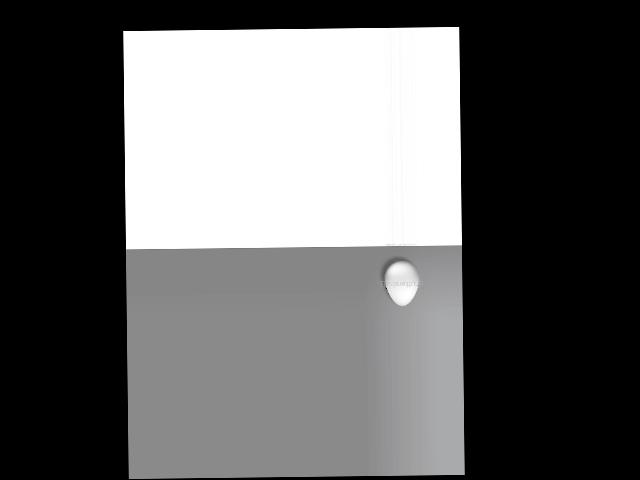egg: (384, 261, 419, 306)
